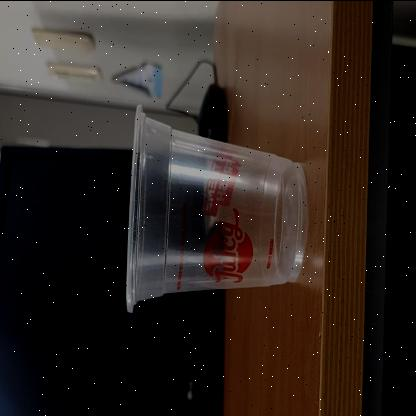Others: (123, 101, 308, 314)
